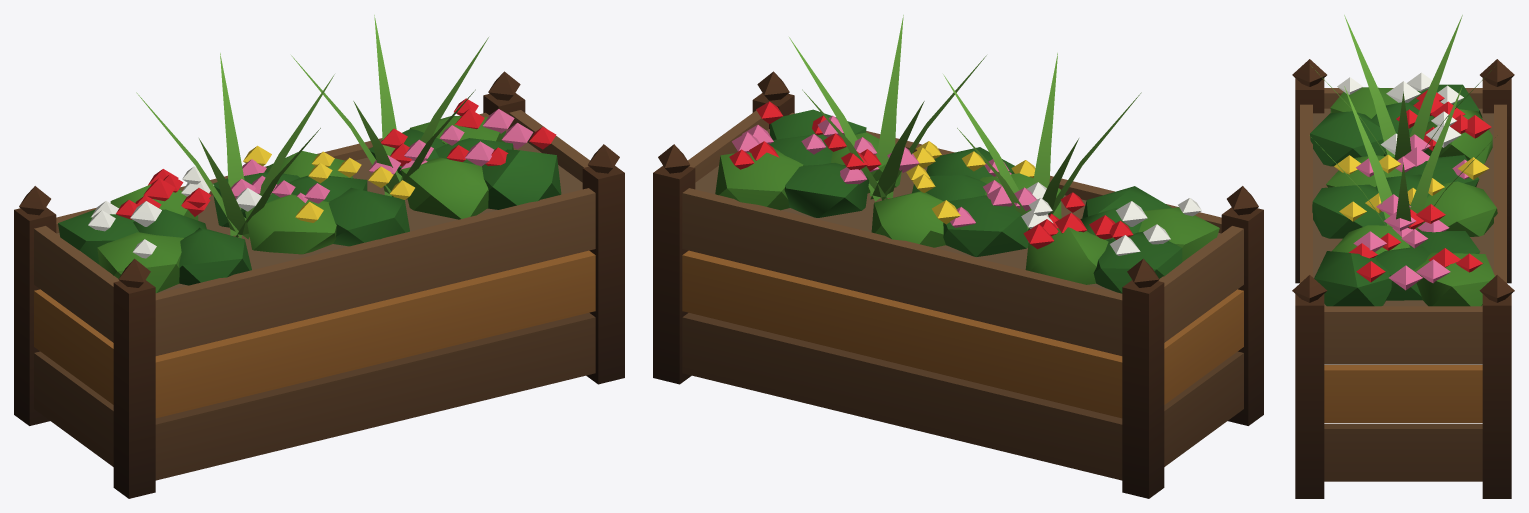
File: Planter.fbx
3 renders of one model, left to right at view 1: azimuth 30°, elevation 25°; view 2: azimuth 150°, elevation 25°; view 3: azimuth 270°, elevation 25°, orthographic. The views are drawn at different scales.
Visible parts, largest first — view 1: Planter_LOD0; view 2: Planter_LOD0; view 3: Planter_LOD0.
Boxes of the visible parts, x1,y1,x2,y2 form: Planter_LOD0: (14,15,624,498); Planter_LOD0: (653,15,1263,498); Planter_LOD0: (1292,15,1514,498).
Size of what is drawn, in the model's own units: 1.69 by 1.03 by 0.69.
1 material, 1 textured.
